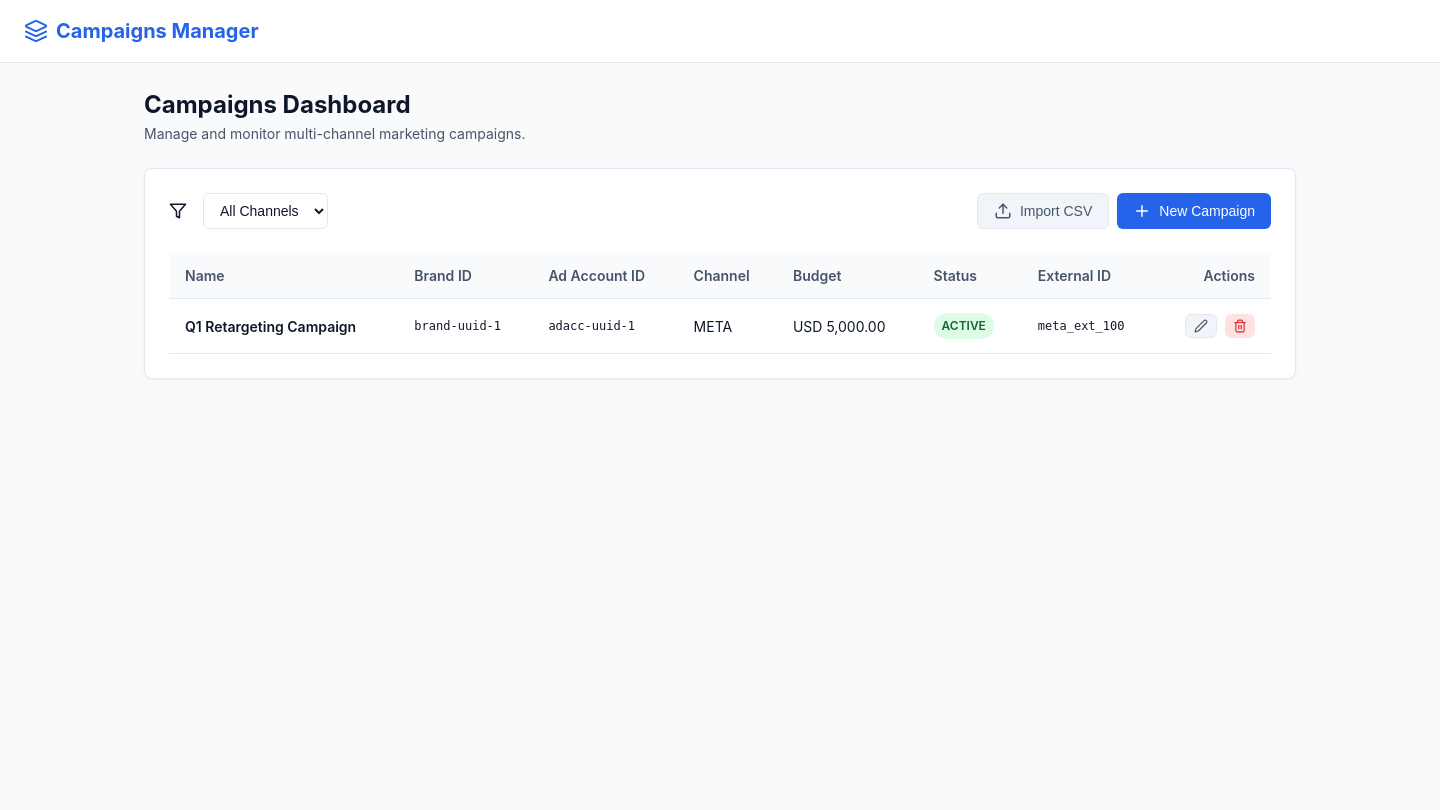
Test: CampaignsDashboard Component › opens create modal when clicking "+ New Campaign"
Expected: the text "New Campaign" is shown, [1159,203,1255,219]
Step 1. Click the button "New Campaign" → (1194,211), box [1117,193,1271,229]
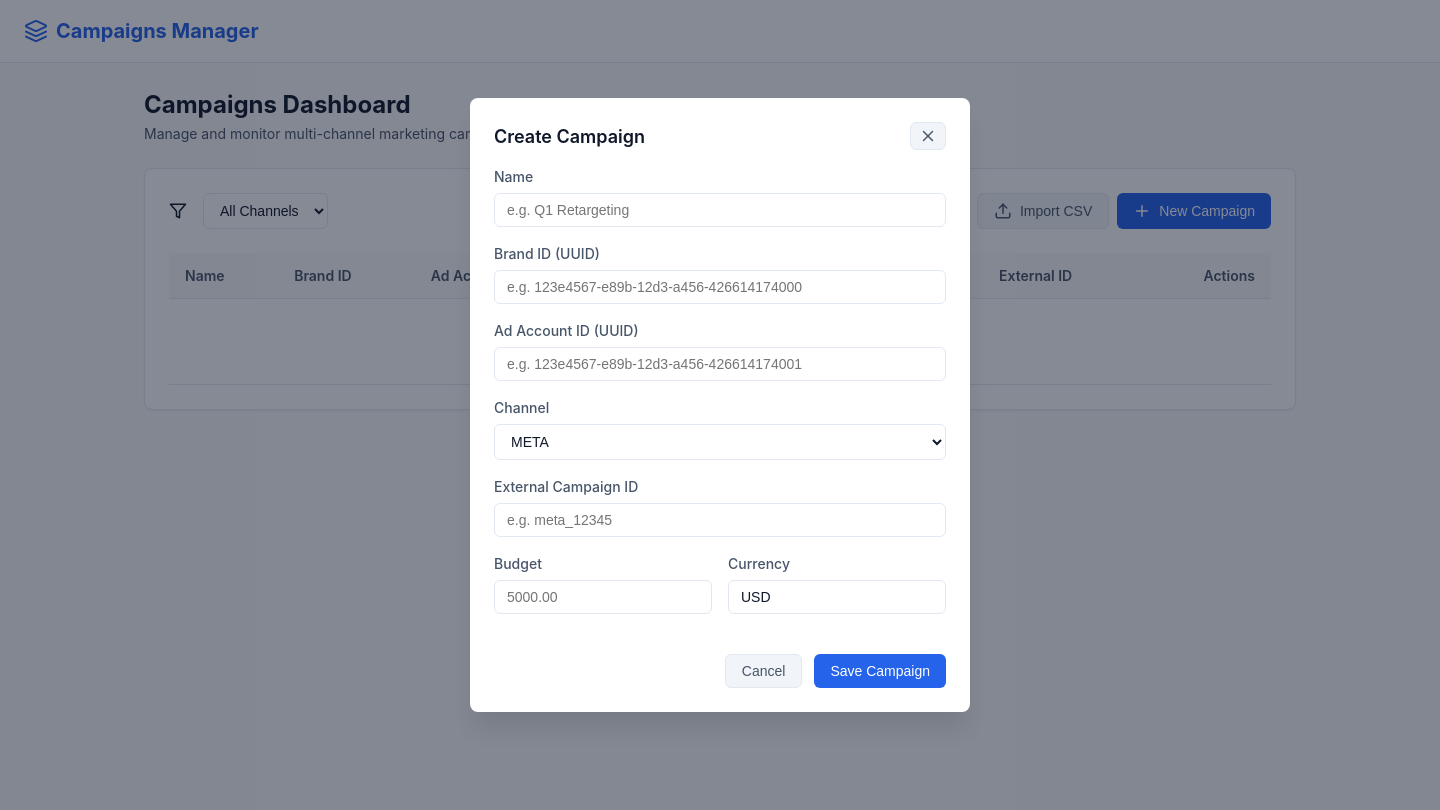
Expected: the heading "Create Campaign" is shown, [494,122,645,150]
